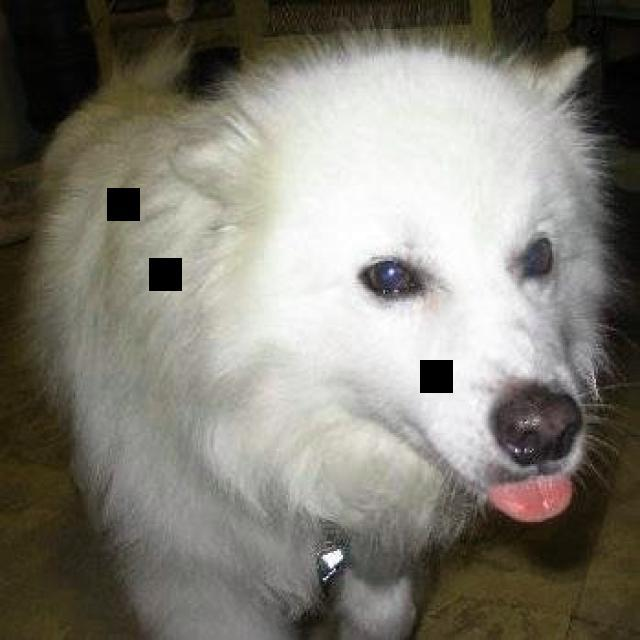adult_dog: (14, 19, 628, 640)
